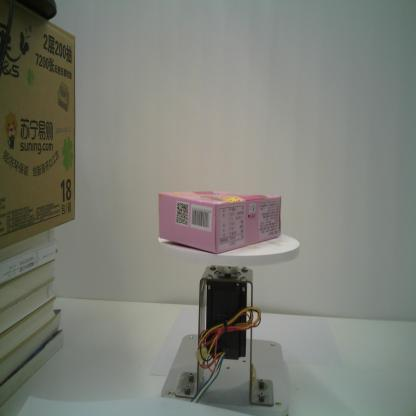Dessert: (157, 190, 282, 254)
